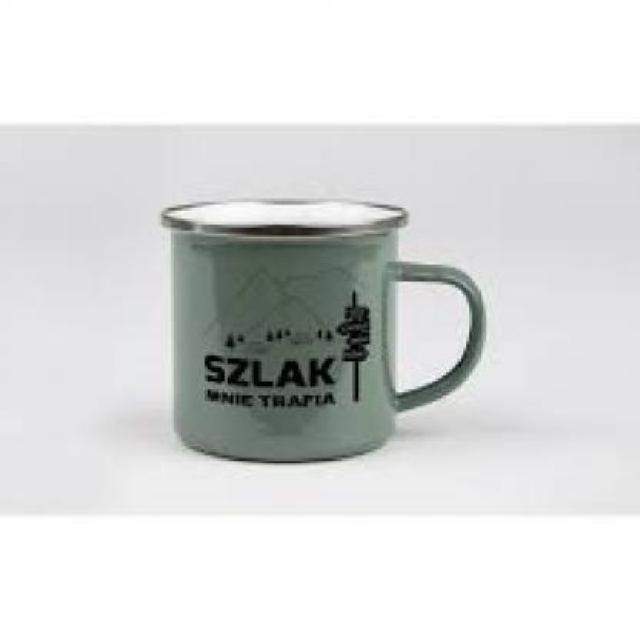cup: (157, 194, 492, 470)
